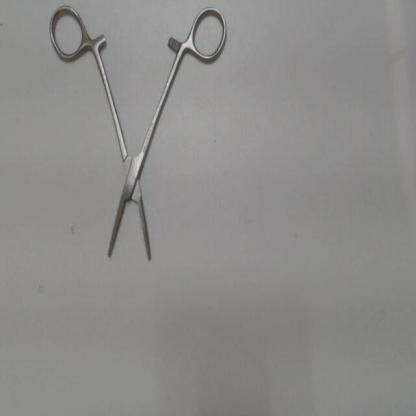Mayo Needle Holder: (44, 0, 233, 275)
